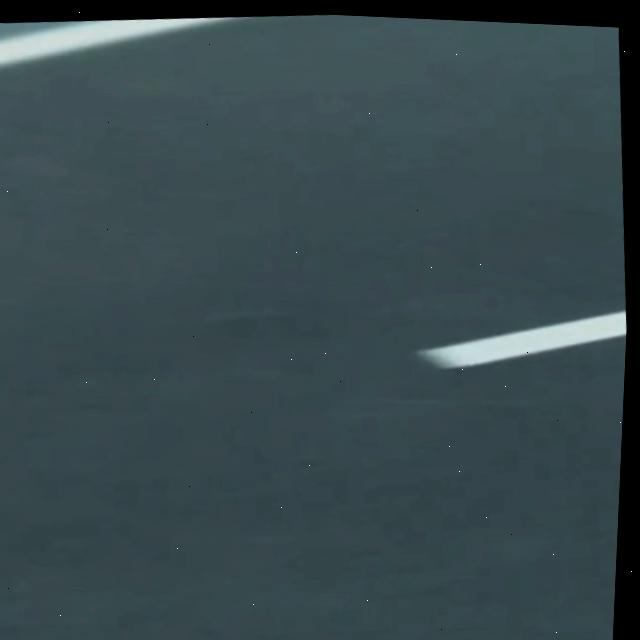center: (417, 308, 626, 366)
left: (0, 16, 233, 64)
